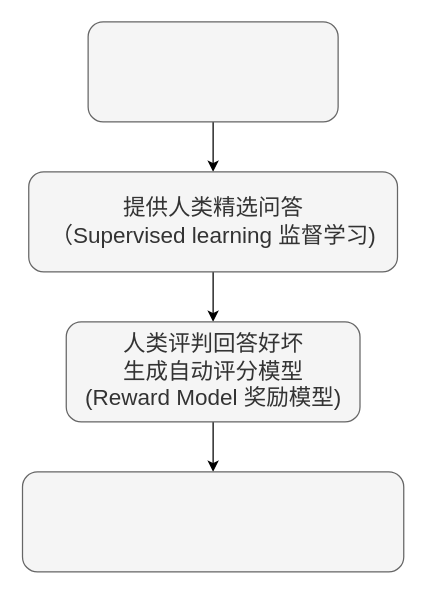
Some shapes in this 425 by 594 pixel diagram are drawn without their labels. Here are the shapes that lost their labels. From the top down, the centre of each, then its label:
[212,71]: 文字接龙 （Pre-train 预训练）
[212,521]: 基于评分模型不断改进 （Reinforcement learning 强化学习）
